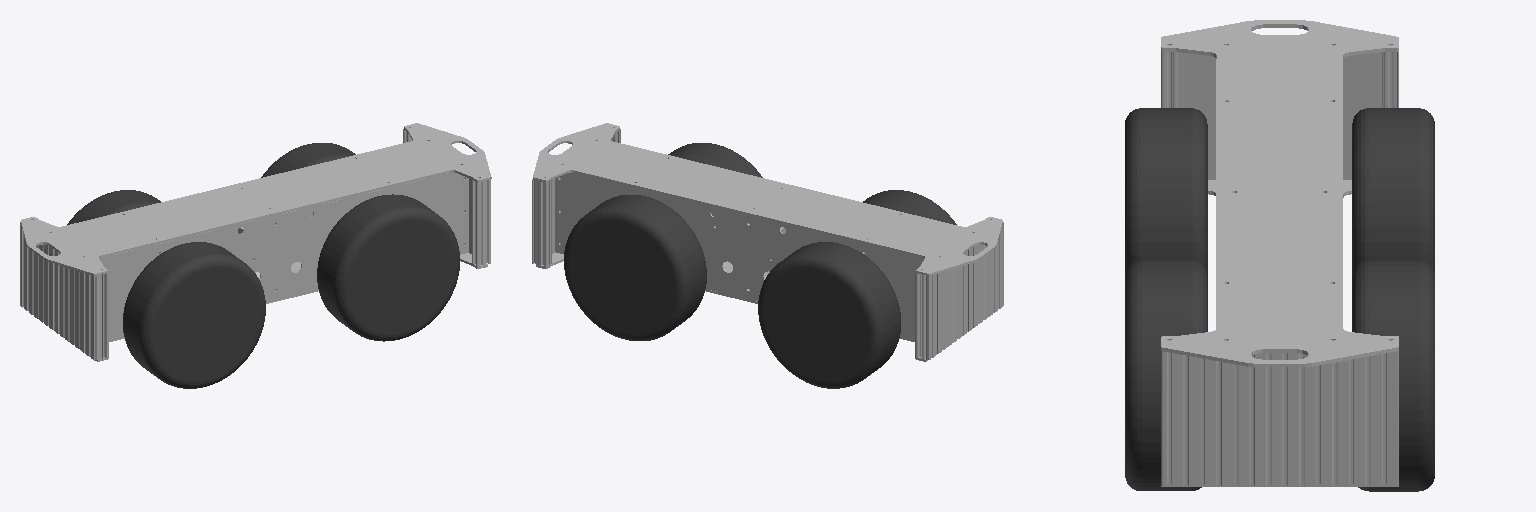
The robot description file, URDF, robot "sly":
<?xml version="1.0" encoding="utf-8"?>
<!-- This URDF was automatically created by SolidWorks to URDF Exporter! Originally created by [author] ([email redacted]) 
     Commit Version: 1.6.0-1-g15f4949  Build Version: 1.6.7594.29634
     For more information, please see http://wiki.ros.org/sw_urdf_exporter -->
<robot
  name="sly">
  <link
    name="base_link">
    <inertial>
      <origin
        xyz="-1.579E-05 -0.00013599 0.23643132"
        rpy="0 0 0" />
      <mass
        value="45" />
      <inertia
        ixx="2.9337"
        ixy="0.0080257"
        ixz="-0.00019718"
        iyy="11.131"
        iyz="-0.0012284"
        izz="8.5524" />
    </inertial>
    <visual>
      <origin
        xyz="0 0 0"
        rpy="0 0 0" />
      <geometry>
        <mesh
          filename="package://sly_description/models/sly/meshes/base_link.STL" />
      </geometry>
      <material
        name="">
        <color
          rgba="0.75294 0.75294 0.75294 1" />
      </material>
    </visual>
    <collision>
      <origin
        xyz="0 0 0"
        rpy="0 0 0" />
      <geometry>
        <mesh
          filename="package://sly_description/models/sly/meshes/base_link.STL" />
      </geometry>
    </collision>
  </link>
  <link
    name="wheel_0">
    <inertial>
      <origin
        xyz="0 0 0"
        rpy="0 0 0" />
      <mass
        value="6.5" />
      <inertia
        ixx="0.058691"
        ixy="0"
        ixz="0"
        iyy="0.58691"
        iyz="0"
        izz="0.10055" />
    </inertial>
    <visual>
      <origin
        xyz="0 0 0"
        rpy="0 0 0" />
      <geometry>
        <mesh
          filename="package://sly_description/models/sly/meshes/wheel_0.STL" />
      </geometry>
      <material
        name="">
        <color
          rgba="0.29804 0.29804 0.29804 1" />
      </material>
    </visual>
    <collision>
      <origin
        xyz="0 0 0"
        rpy="0 0 0" />
      <geometry>
        <mesh
          filename="package://sly_description/models/sly/meshes/wheel_0.STL" />
      </geometry>
    </collision>
  </link>
  <joint
    name="axial_0_0"
    type="continuous">
    <origin
      xyz="0.2761 -0.17457 0.1778"
      rpy="1.5708 0 3.1416" />
    <parent
      link="base_link" />
    <child
      link="wheel_0" />
    <axis
      xyz="0 0 -1" />
  </joint>
  <link
    name="wheel_1">
    <inertial>
      <origin
        xyz="0 0 0"
        rpy="0 0 0" />
      <mass
        value="6.5" />
      <inertia
        ixx="0.058691"
        ixy="0"
        ixz="0"
        iyy="0.058691"
        iyz="0"
        izz="0.10055" />
    </inertial>
    <visual>
      <origin
        xyz="0 0 0"
        rpy="0 0 0" />
      <geometry>
        <mesh
          filename="package://sly_description/models/sly/meshes/wheel_1.STL" />
      </geometry>
      <material
        name="">
        <color
          rgba="0.29804 0.29804 0.29804 1" />
      </material>
    </visual>
    <collision>
      <origin
        xyz="0 0 0"
        rpy="0 0 0" />
      <geometry>
        <mesh
          filename="package://sly_description/models/sly/meshes/wheel_1.STL" />
      </geometry>
    </collision>
  </link>
  <joint
    name="axial_0_1"
    type="continuous">
    <origin
      xyz="0.276098000805913 0.17467779424094 0.1778"
      rpy="-1.5707963267949 0 0" />
    <parent
      link="base_link" />
    <child
      link="wheel_1" />
    <axis
      xyz="0 0 -1" />
  </joint>
  <link
    name="wheel_2">
    <inertial>
      <origin
        xyz="0 0 0"
        rpy="0 0 0" />
      <mass
        value="6.5" />
      <inertia
        ixx="0.058691"
        ixy="0"
        ixz="0"
        iyy="0.058691"
        iyz="0"
        izz="0.10055" />
    </inertial>
    <visual>
      <origin
        xyz="0 0 0"
        rpy="0 0 0" />
      <geometry>
        <mesh
          filename="package://sly_description/models/sly/meshes/wheel_2.STL" />
      </geometry>
      <material
        name="">
        <color
          rgba="0.29804 0.29804 0.29804 1" />
      </material>
    </visual>
    <collision>
      <origin
        xyz="0 0 0"
        rpy="0 0 0" />
      <geometry>
        <mesh
          filename="package://sly_description/models/sly/meshes/wheel_2.STL" />
      </geometry>
    </collision>
  </link>
  <joint
    name="axial_1_0"
    type="continuous">
    <origin
      xyz="-0.2761 0.17448 0.1778"
      rpy="-1.5708 0 0" />
    <parent
      link="base_link" />
    <child
      link="wheel_2" />
    <axis
      xyz="0 0 -1" />
  </joint>
  <link
    name="wheel_3">
    <inertial>
      <origin
        xyz="0 0 0"
        rpy="0 0 0" />
      <mass
        value="6.5" />
      <inertia
        ixx="0.058691"
        ixy="0"
        ixz="0"
        iyy="0.058691"
        iyz="0"
        izz="0.10055" />
    </inertial>
    <visual>
      <origin
        xyz="0 0 0"
        rpy="0 0 0" />
      <geometry>
        <mesh
          filename="package://sly_description/models/sly/meshes/wheel_3.STL" />
      </geometry>
      <material
        name="">
        <color
          rgba="0.29804 0.29804 0.29804 1" />
      </material>
    </visual>
    <collision>
      <origin
        xyz="0 0 0"
        rpy="0 0 0" />
      <geometry>
        <mesh
          filename="package://sly_description/models/sly/meshes/wheel_3.STL" />
      </geometry>
    </collision>
  </link>
  <joint
    name="axial_1_1"
    type="continuous">
    <origin
      xyz="-0.2761 -0.17477 0.1778"
      rpy="-1.5708 0 0" />
    <parent
      link="base_link" />
    <child
      link="wheel_3" />
    <axis
      xyz="0 0 -1" />
  </joint>
</robot>

--- What the picture shows (computed from the rendered views, not written in the file) ---
3 views of the same robot in one strip: view 1: azimuth 30°, elevation 25°; view 2: azimuth 150°, elevation 25°; view 3: azimuth 270°, elevation 25° (orthographic).
Robot: sly — 5 links, 4 joints (4 continuous); root link base_link; default pose: every joint at zero.
Links seen in each view (by area): view 1: base_link, wheel_3, wheel_0, wheel_1, wheel_2; view 2: base_link, wheel_2, wheel_1, wheel_3, wheel_0; view 3: base_link, wheel_3, wheel_2, wheel_1, wheel_0.
Link boxes in pixels (bbox=[...]): base_link: bbox=[20, 123, 491, 361]; wheel_3: bbox=[123, 242, 265, 388]; wheel_0: bbox=[317, 194, 459, 341]; wheel_1: bbox=[261, 143, 355, 177]; wheel_2: bbox=[67, 190, 160, 224]; base_link: bbox=[532, 123, 1003, 361]; wheel_2: bbox=[758, 242, 900, 388]; wheel_1: bbox=[564, 195, 706, 340]; wheel_3: bbox=[863, 190, 956, 224]; wheel_0: bbox=[668, 143, 762, 177]; base_link: bbox=[1161, 20, 1398, 486]; wheel_3: bbox=[1125, 108, 1207, 274]; wheel_2: bbox=[1352, 108, 1434, 275]; wheel_1: bbox=[1352, 260, 1434, 491]; wheel_0: bbox=[1125, 260, 1207, 490].
Bounding box of the posed robot: 1.25 × 0.4764 × 0.3604 m (x, y, z).
Meshes: 5 distinct files referenced, 5 mesh visuals loaded (5 binary STL).
